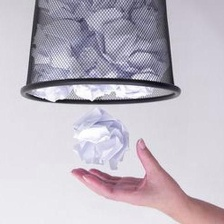tissue: (35, 0, 164, 102), (64, 104, 135, 176)
